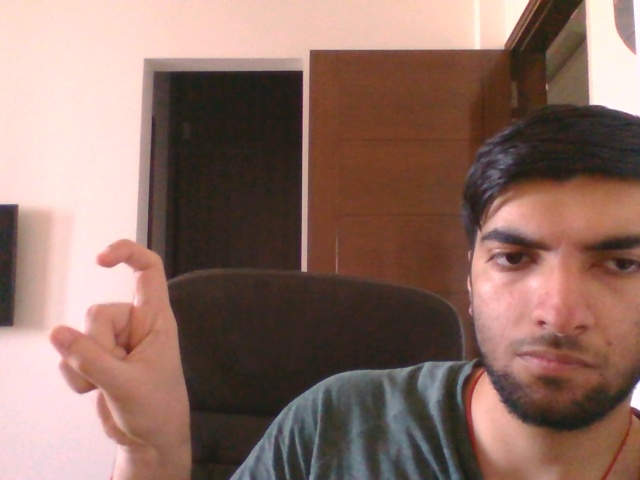LetterZ: (46, 233, 195, 455)
